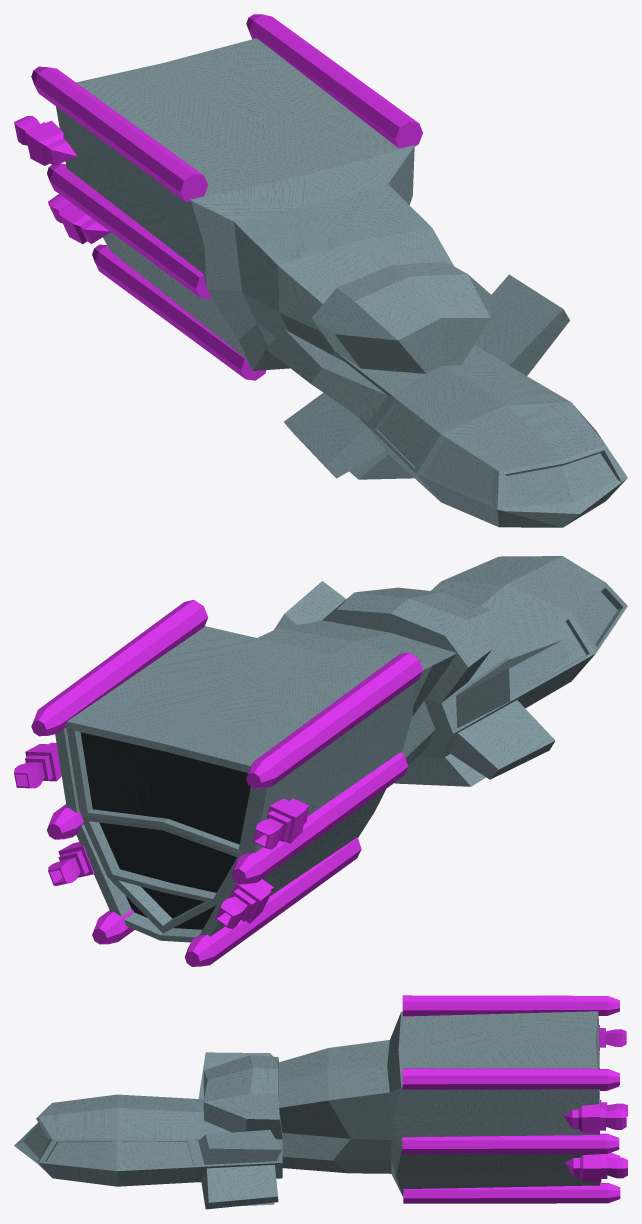
Rendered from cargoship.glb.
3 views of the same model, one above another, from view 1: azimuth 30°, elevation 25°; view 2: azimuth 150°, elevation 25°; view 3: azimuth 270°, elevation 25° (orthographic). The views are drawn at different scales.
Parts seen in each view (by area): view 1: Cube, Cylinder, Cylinder.001, Cylinder.002, Sphere; view 2: Cube, Cylinder, Sphere, Cylinder.001, Cylinder.002; view 3: Cube, Cylinder, Cylinder.001, Cylinder.002, Sphere.
Boxes of the visible parts, x1=… form: Cube: x1=56, y1=38, x2=627, y2=527; Cylinder: x1=31, y1=14, x2=422, y2=201; Cylinder.001: x1=47, y1=163, x2=211, y2=299; Cylinder.002: x1=92, y1=244, x2=266, y2=380; Sphere: x1=14, y1=115, x2=110, y2=244; Cube: x1=55, y1=556, x2=627, y2=942; Cylinder: x1=31, y1=599, x2=422, y2=788; Sphere: x1=14, y1=742, x2=309, y2=928; Cylinder.001: x1=47, y1=752, x2=408, y2=884; Cylinder.002: x1=92, y1=837, x2=361, y2=966; Cube: x1=14, y1=1011, x2=599, y2=1209; Cylinder: x1=402, y1=995, x2=619, y2=1089; Cylinder.001: x1=402, y1=1085, x2=619, y2=1154; Cylinder.002: x1=403, y1=1152, x2=620, y2=1203; Sphere: x1=563, y1=1025, x2=627, y2=1182.
Size of the model in its own units: 5.05 by 4.12 by 14.23.
1 material, 1 textured.
